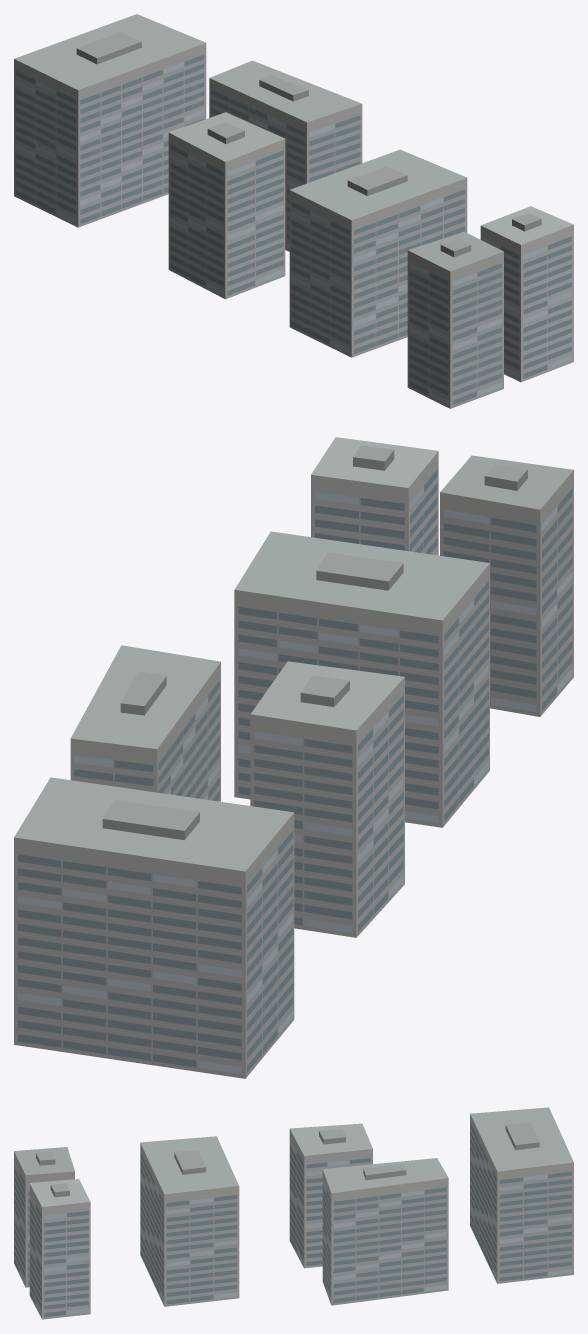
Rendered from apt-a10023314.glb.
3 views of the same model, one above another, from view 1: azimuth 30°, elevation 25°; view 2: azimuth 150°, elevation 25°; view 3: azimuth 270°, elevation 25° (orthographic). The views are drawn at different scales.
Visible parts, largest first — view 1: apt-a10023314; view 2: apt-a10023314; view 3: apt-a10023314.
Boxes of the visible parts, <box> form: apt-a10023314: <box>14,14,573,408</box>; apt-a10023314: <box>14,437,573,1078</box>; apt-a10023314: <box>14,1107,573,1319</box>.
Bounding box in the file's own units: 87.17 × 47.81 × 207.
